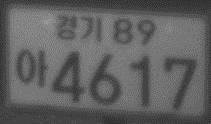1: (127, 54, 158, 106)
4: (50, 49, 86, 102)
6: (87, 53, 122, 106)
7: (163, 56, 198, 109)
8: (113, 17, 133, 45)
9: (137, 17, 156, 44)
경기_H: (55, 13, 103, 41)
아: (15, 47, 49, 88)
